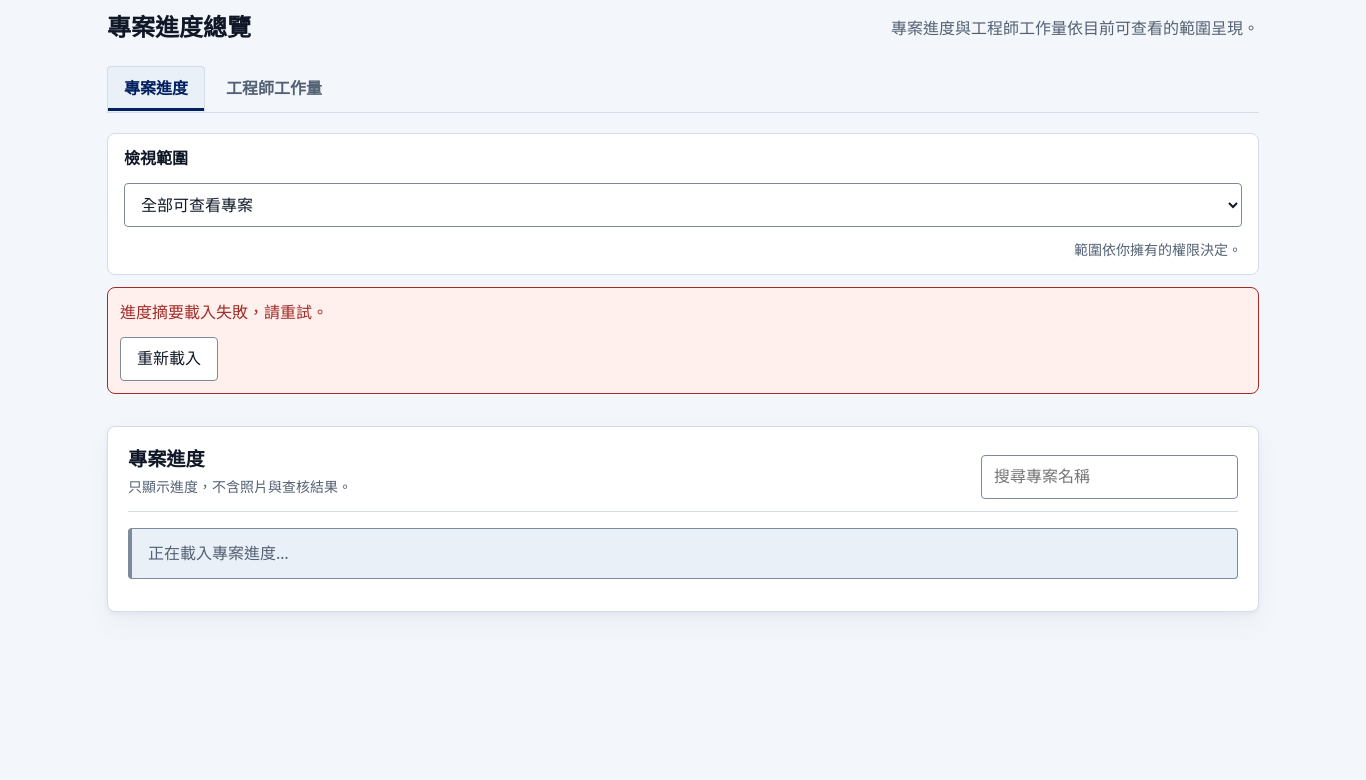
Dashboard 頁面 › 錯誤後可重新載入摘要與清單
Step 1. Click the button "重新載入" → (169, 359), box 120,337 -> 218,381
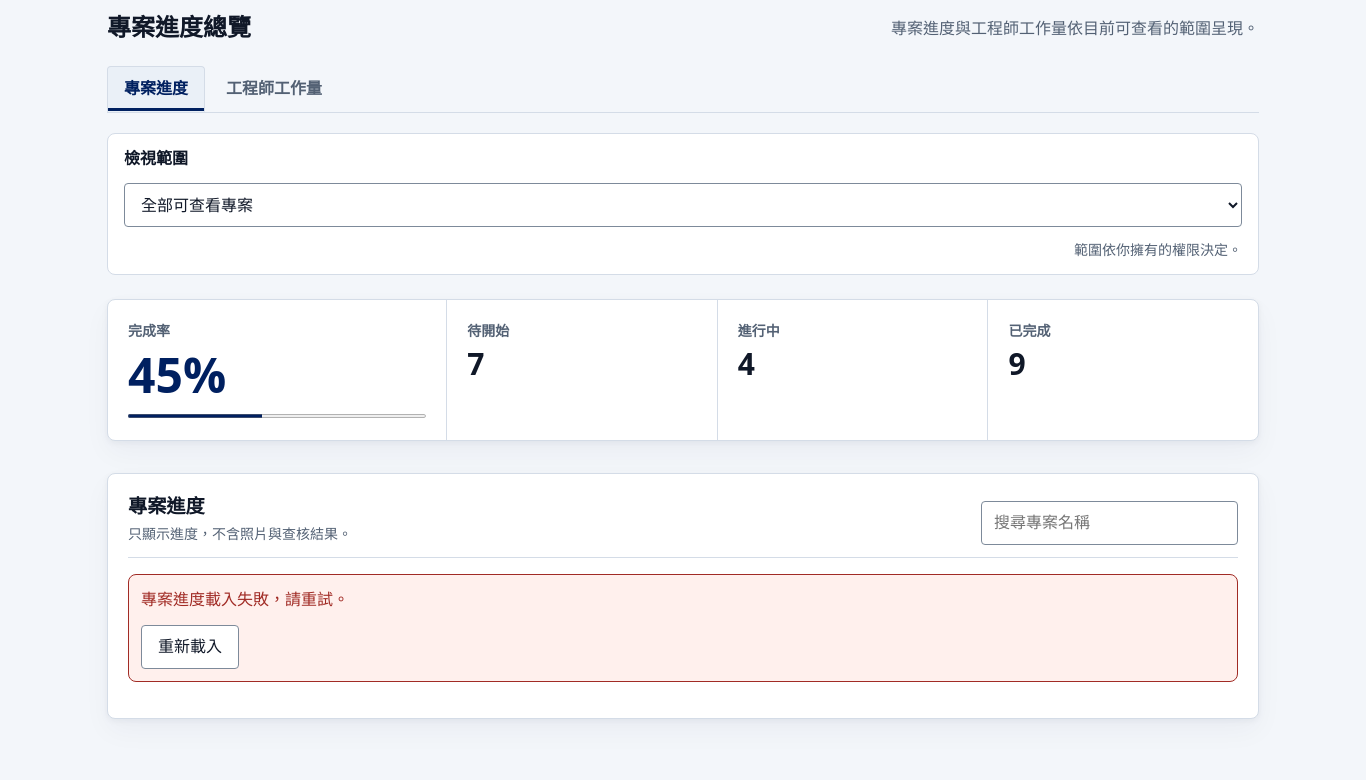
Expected: the text "45%" is shown, 128,342 -> 226,407
